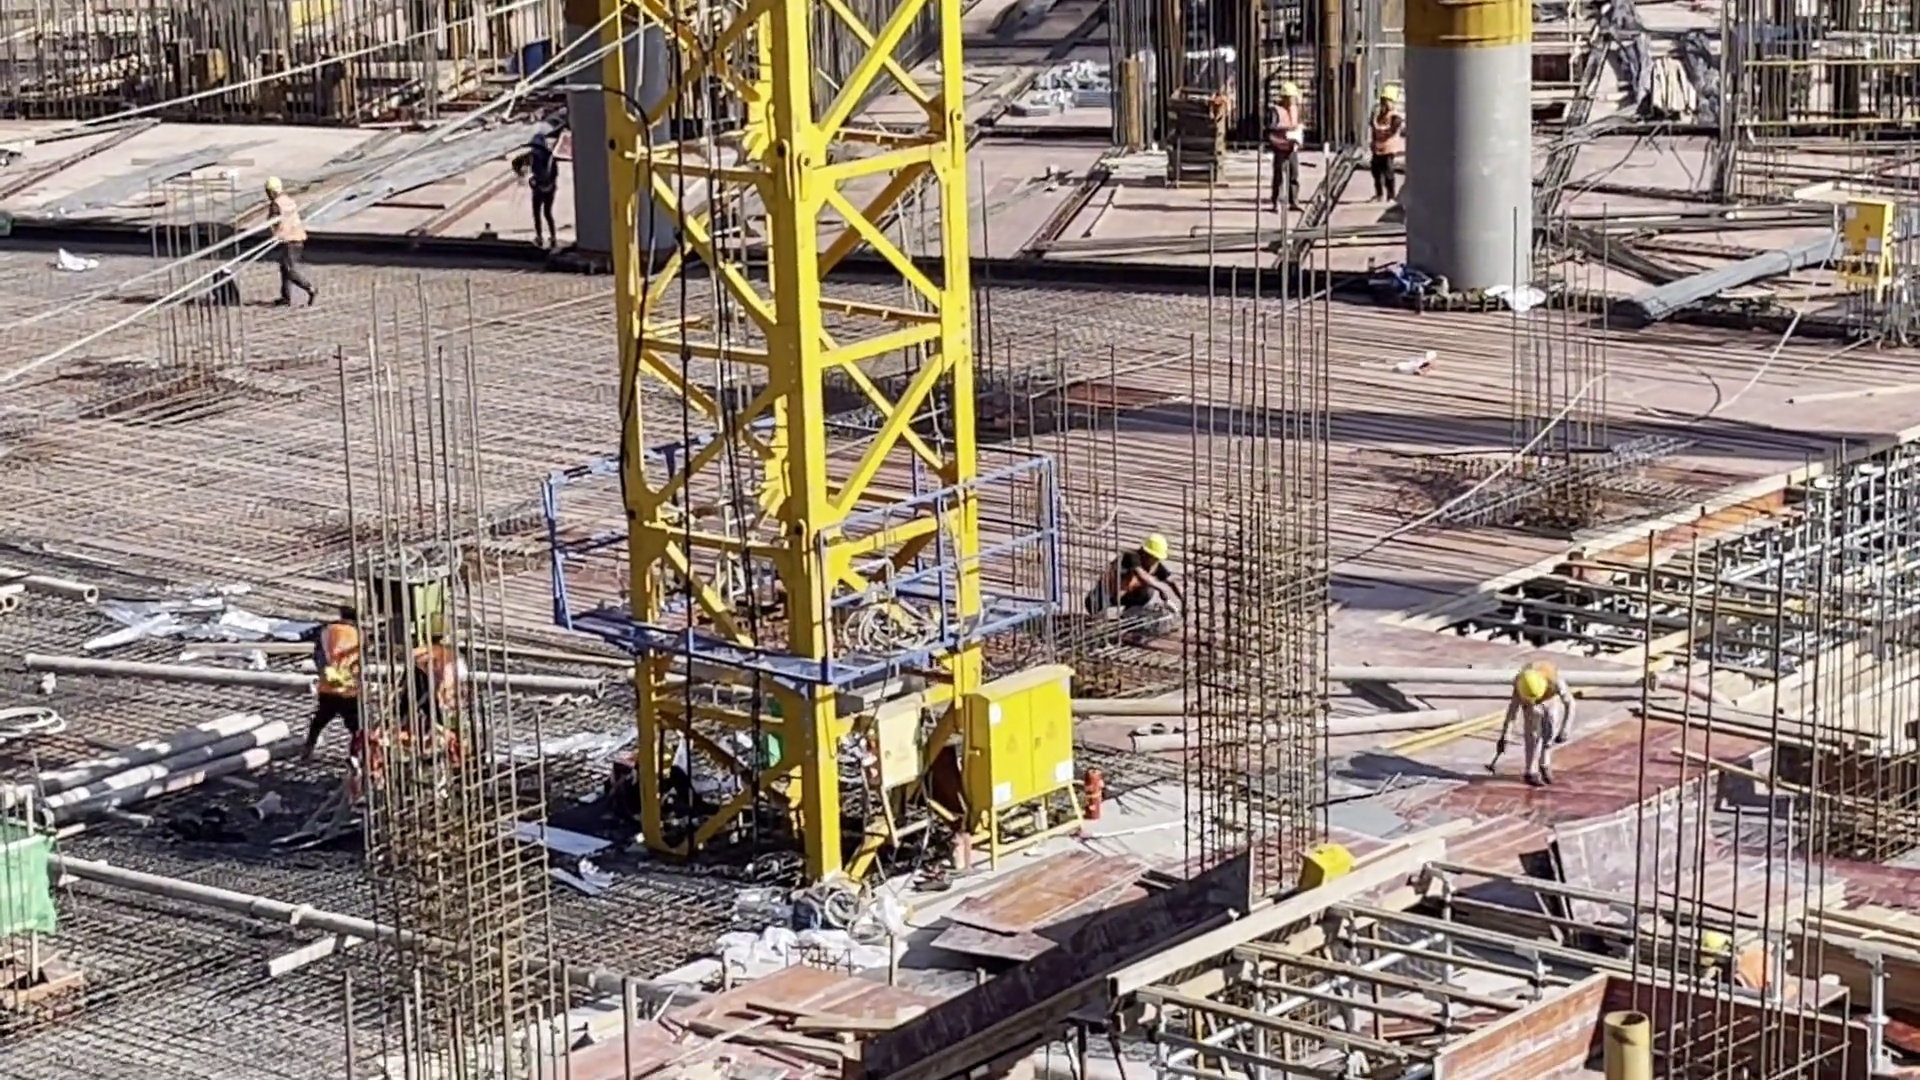helmet: (1141, 533, 1172, 565), (1517, 666, 1548, 695), (260, 174, 285, 196), (1278, 80, 1301, 97), (1379, 85, 1400, 103)
person: (1479, 655, 1592, 791), (1086, 537, 1184, 636), (304, 591, 364, 750), (1692, 926, 1789, 1011), (505, 131, 565, 254), (1261, 78, 1305, 214), (258, 171, 303, 303), (1366, 80, 1406, 204)
vest: (311, 619, 367, 698), (1091, 555, 1158, 620), (268, 197, 304, 247), (1269, 102, 1302, 157), (1370, 109, 1404, 158)
